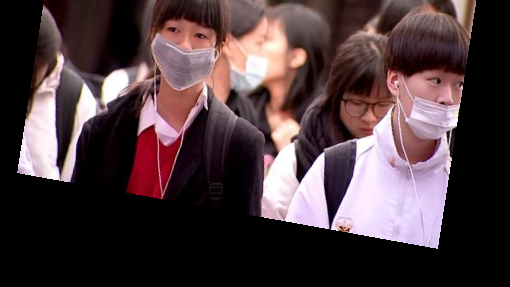mask_weared_incorrect: (379, 5, 469, 144), (127, 1, 239, 91)
